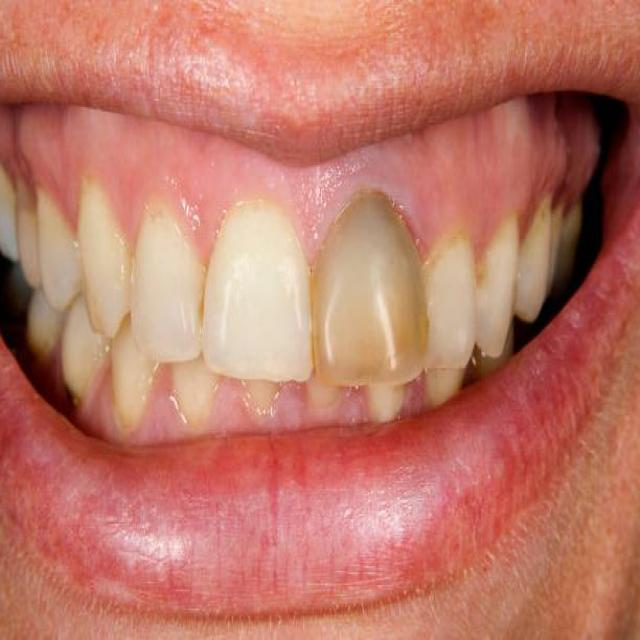caries: (62, 375, 92, 424)
